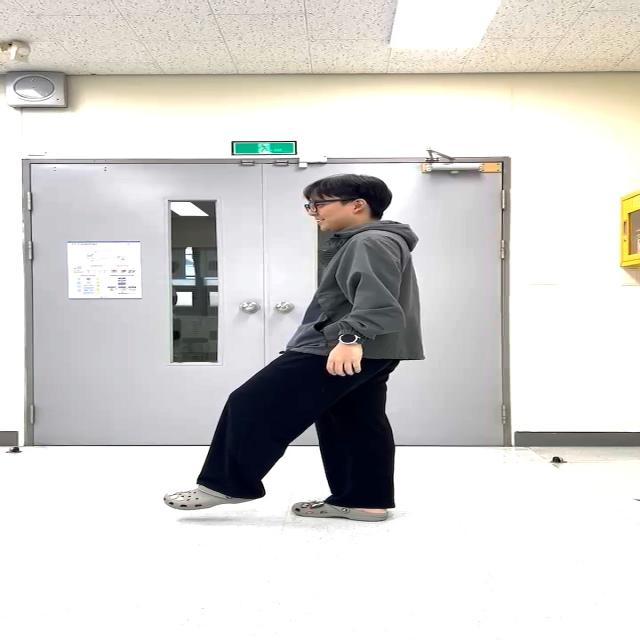leg: (196, 349, 314, 498)
